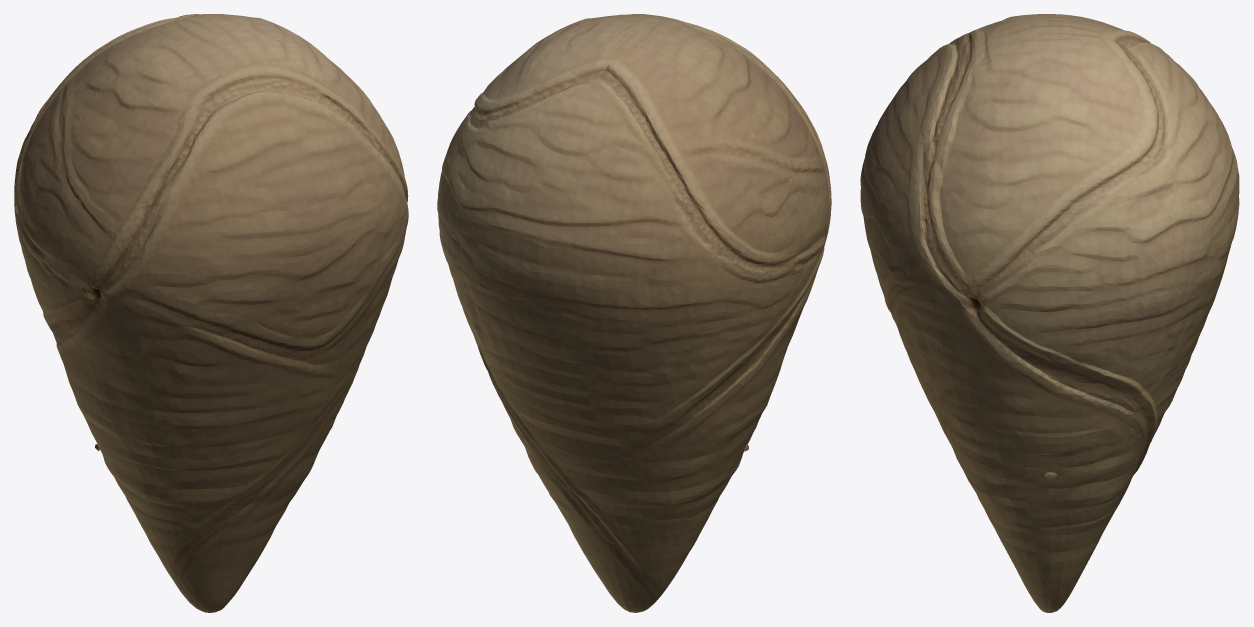
The picture shows the model from 3 angles, left to right: view 1: azimuth 30°, elevation 25°; view 2: azimuth 150°, elevation 25°; view 3: azimuth 270°, elevation 25°; orthographic projection.
Visible parts, largest first — view 1: world; view 2: world; view 3: world.
Part boxes in pixels (left/top/right/bottom): world: left=14, top=14, right=408, bottom=612; world: left=437, top=14, right=831, bottom=612; world: left=860, top=14, right=1239, bottom=612.
Bounding box in the file's own units: 0.0393 × 0.065 × 0.0387.
1 material, 1 textured.
